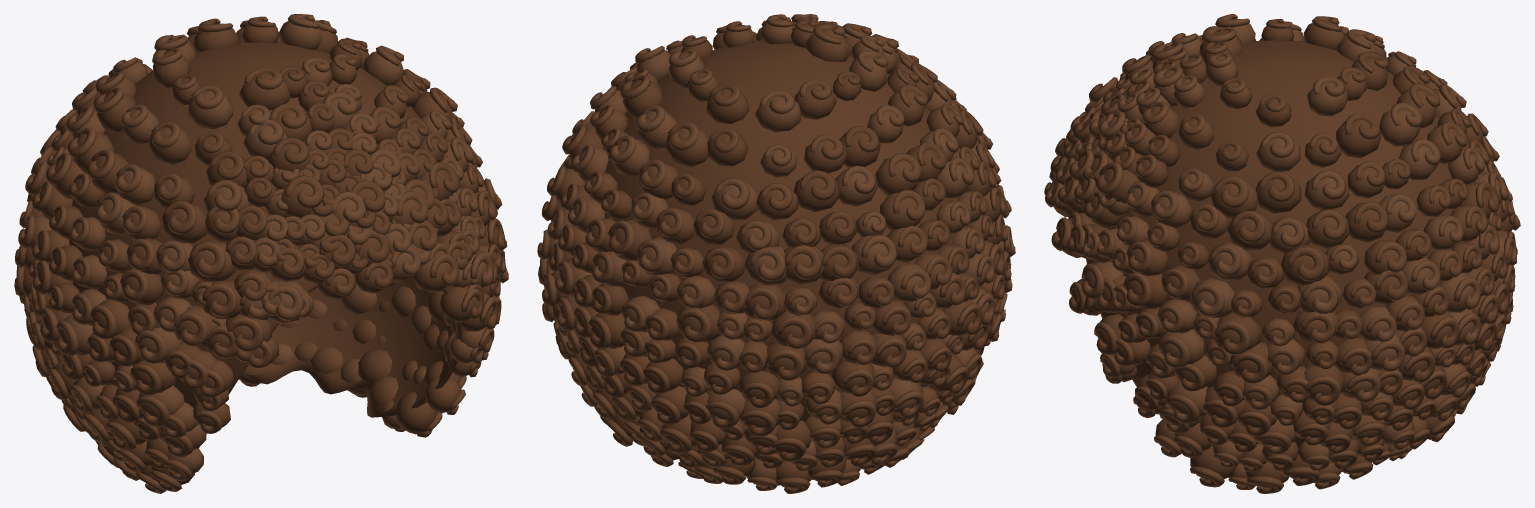
File: corte-feminino-09.glb
3 views of the same model, side by side, from view 1: azimuth 30°, elevation 25°; view 2: azimuth 150°, elevation 25°; view 3: azimuth 270°, elevation 25° (orthographic). The views are drawn at different scales.
Parts seen in each view (by area): view 1: RCL_Corte_Feminino_09; view 2: RCL_Corte_Feminino_09; view 3: RCL_Corte_Feminino_09.
Part boxes in pixels (x1=…): RCL_Corte_Feminino_09: x1=14, y1=14, x2=508, y2=493; RCL_Corte_Feminino_09: x1=537, y1=14, x2=1015, y2=493; RCL_Corte_Feminino_09: x1=1044, y1=14, x2=1520, y2=493.
Bounding box in the file's own units: 0.3299 × 0.3017 × 0.3307.
